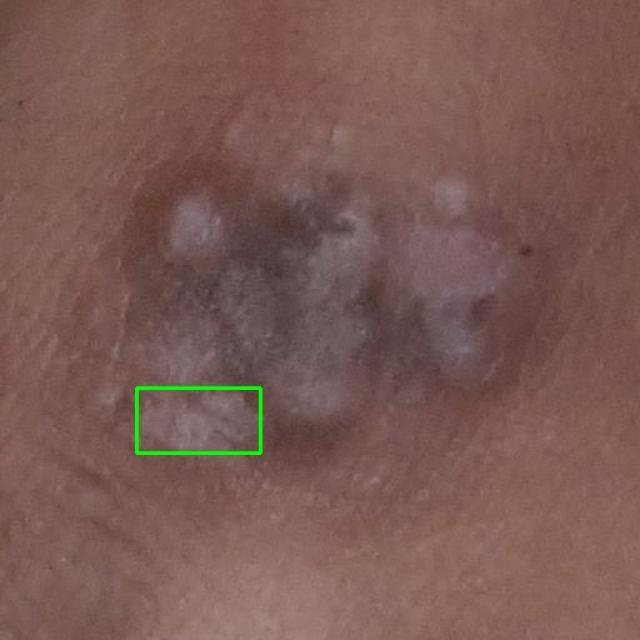Contact Dermatitis: (136, 388, 260, 452)
